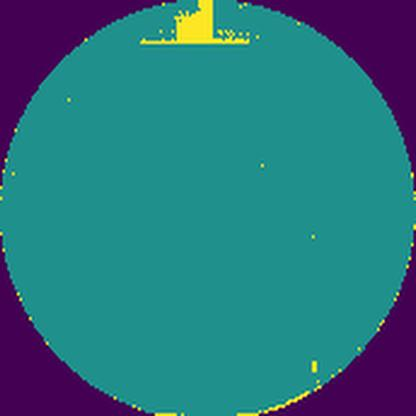Loc: (140, 0, 248, 44)
